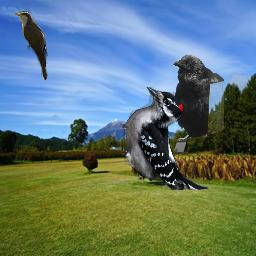Crow: (169, 54, 224, 141)
Cuckoo: (14, 11, 49, 82)
Woodpecker: (122, 87, 209, 190)
